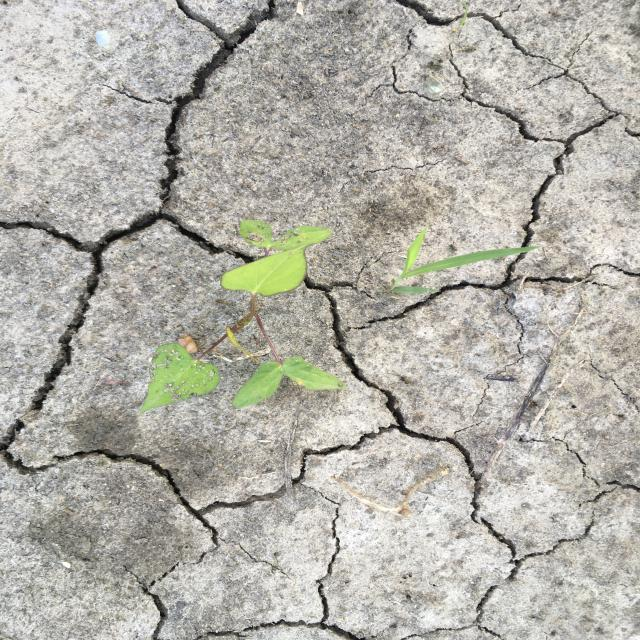MorningGlory: (130, 218, 350, 414)
